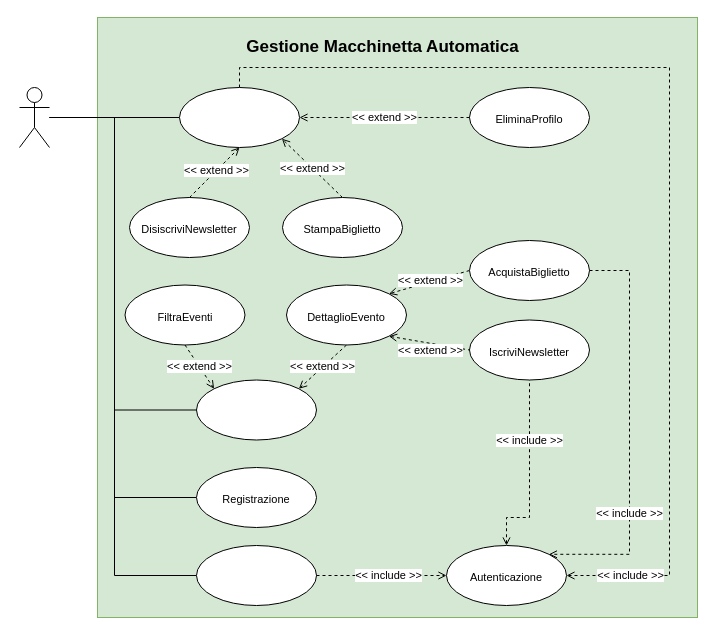
Image size: 715x635. Some labels were removed from this diagram. The centre of each missing label's shape, as x and y in pixels:
"GestioneProfilo" belongs at (x=239, y=117).
"LasciaFeedback" belongs at (x=256, y=575).
"Utente" belongs at (x=34, y=117).
"VisualizzaEventi" belongs at (x=256, y=409).
